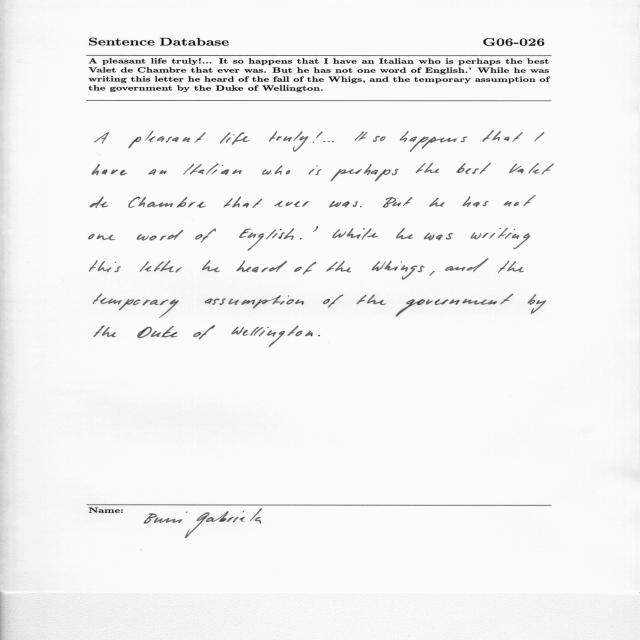word: (396, 294, 513, 317), (93, 294, 179, 318), (231, 326, 313, 347), (400, 131, 467, 152), (205, 295, 304, 309), (129, 131, 206, 148), (239, 228, 294, 251), (471, 228, 531, 249), (331, 164, 399, 181), (128, 197, 206, 208), (269, 131, 309, 152), (183, 163, 242, 175), (445, 259, 488, 272), (332, 228, 378, 240), (509, 163, 554, 175), (137, 230, 183, 241), (140, 261, 182, 273), (482, 130, 523, 142), (137, 326, 178, 338), (92, 164, 127, 176), (224, 197, 262, 208), (220, 132, 250, 145), (456, 163, 491, 174), (504, 195, 536, 207), (89, 260, 121, 272), (237, 261, 269, 273), (527, 294, 546, 314), (401, 265, 425, 280), (498, 260, 524, 273), (194, 325, 216, 340), (383, 197, 412, 208), (195, 228, 216, 243), (462, 196, 489, 207), (357, 295, 386, 305), (294, 262, 316, 275), (326, 261, 351, 272), (94, 326, 116, 338), (323, 295, 343, 308), (262, 166, 290, 175), (416, 163, 439, 173), (202, 260, 220, 272), (269, 260, 287, 272), (274, 201, 309, 207), (90, 197, 109, 208), (424, 233, 453, 240), (396, 228, 413, 239), (94, 132, 109, 144), (329, 201, 359, 207), (384, 261, 402, 271), (89, 234, 115, 240), (372, 262, 386, 272), (430, 198, 445, 207), (309, 165, 322, 175), (355, 131, 367, 141), (313, 132, 323, 143), (149, 169, 167, 175), (535, 132, 545, 142), (373, 136, 386, 142), (313, 226, 318, 232), (430, 271, 435, 276), (323, 141, 334, 142), (360, 206, 362, 207), (300, 238, 302, 239), (318, 335, 320, 336)
